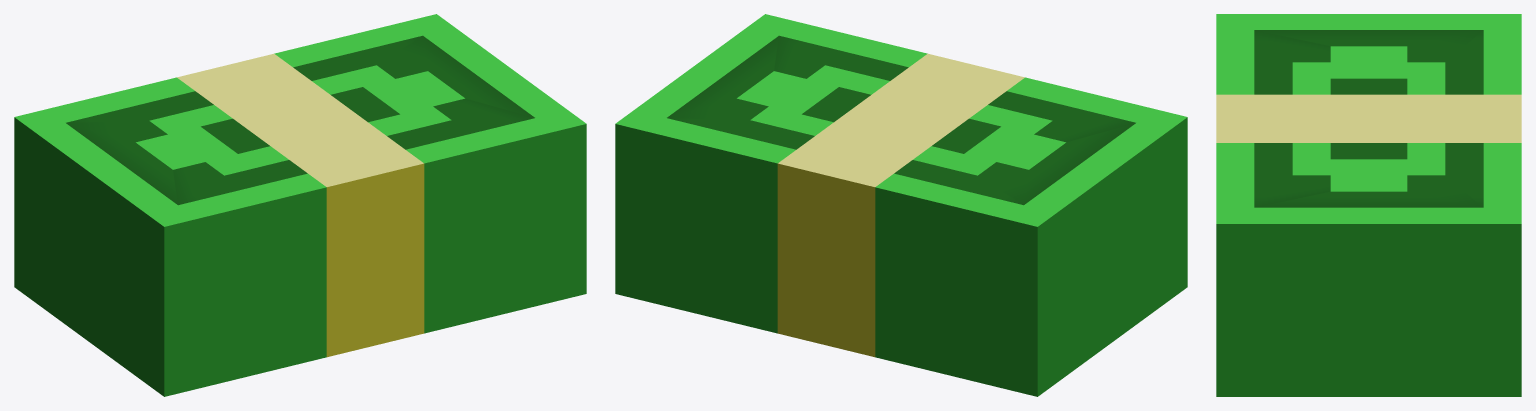
File: CashA.fbx
3 views of the same model, side by side, from view 1: azimuth 30°, elevation 25°; view 2: azimuth 150°, elevation 25°; view 3: azimuth 270°, elevation 25° (orthographic).
Visible parts, largest first — view 1: CashA; view 2: CashA; view 3: CashA.
Part boxes in pixels (x1,y1,x2,y2): CashA: [14, 14, 586, 396]; CashA: [615, 14, 1187, 396]; CashA: [1216, 14, 1521, 396].
Bounding box in the file's own units: 130 × 50 × 80.
